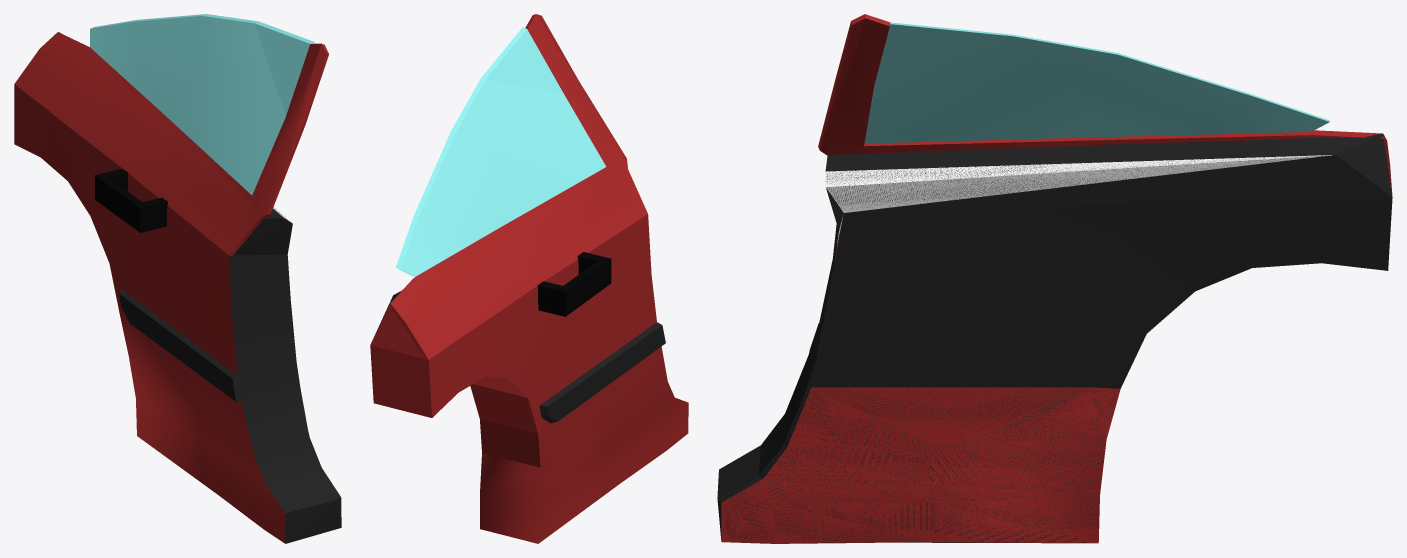
File: CarDoorBR.dae
3 renders of one model, left to right at view 1: azimuth 30°, elevation 25°; view 2: azimuth 150°, elevation 25°; view 3: azimuth 270°, elevation 25°, orthographic. The views are drawn at different scales.
Parts seen in each view (by area): view 1: SketchUp (×5); view 2: SketchUp (×5); view 3: SketchUp (×5).
Part boxes in pixels (<box>): SketchUp (×5): <box>14,14,341,543</box>; SketchUp (×5): <box>370,14,688,543</box>; SketchUp (×5): <box>717,14,1392,543</box>.
Size of the model in its own units: 13.14 by 46.16 by 41.84.
